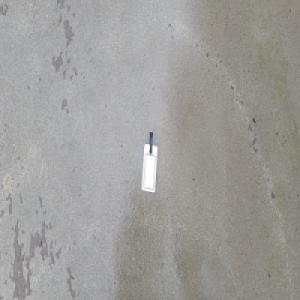LuggageTag: (140, 131, 158, 194)
